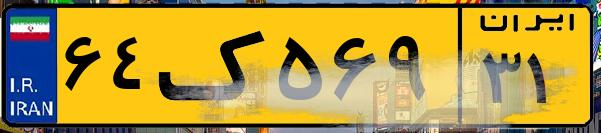1: (525, 38, 570, 115)
3: (475, 38, 525, 113)
4: (110, 28, 158, 98)
5: (270, 28, 330, 110)
6: (330, 28, 385, 110), (57, 26, 110, 100)
9: (385, 28, 445, 110)
ک: (158, 12, 270, 120)
